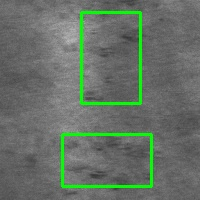rolled-in_scale: (81, 12, 140, 103), (62, 134, 151, 186)
